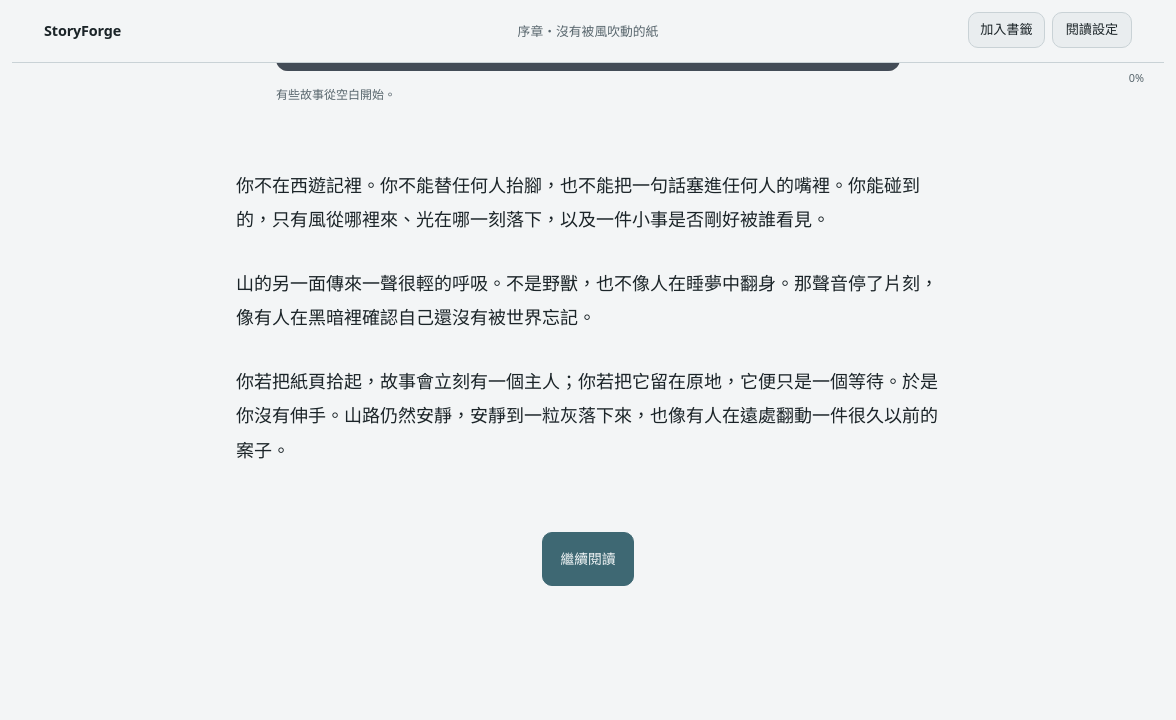
Test case: Book reader › commits the light Choice and renders only its consequence
(page scrolled)
Click the button "繼續閱讀". click: (588, 559)
box: [542,532,634,586]
(page scrolled)
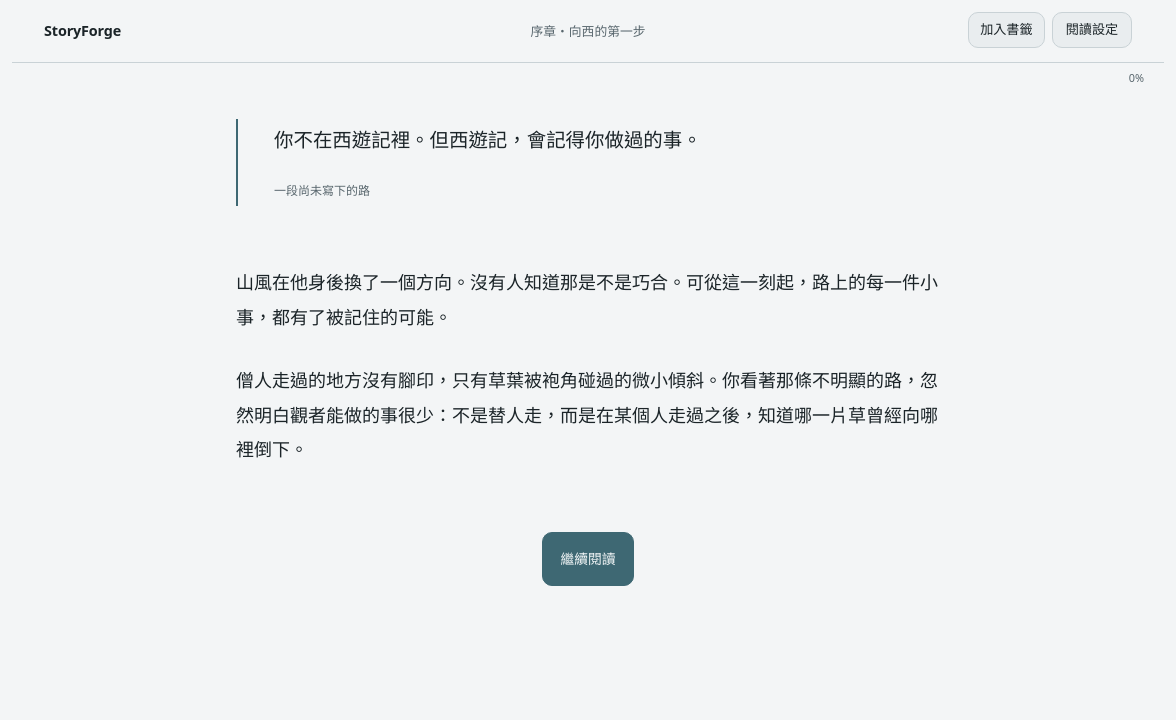
Click the button "繼續閱讀". click: (588, 559)
box: [542,532,634,586]
(page scrolled)
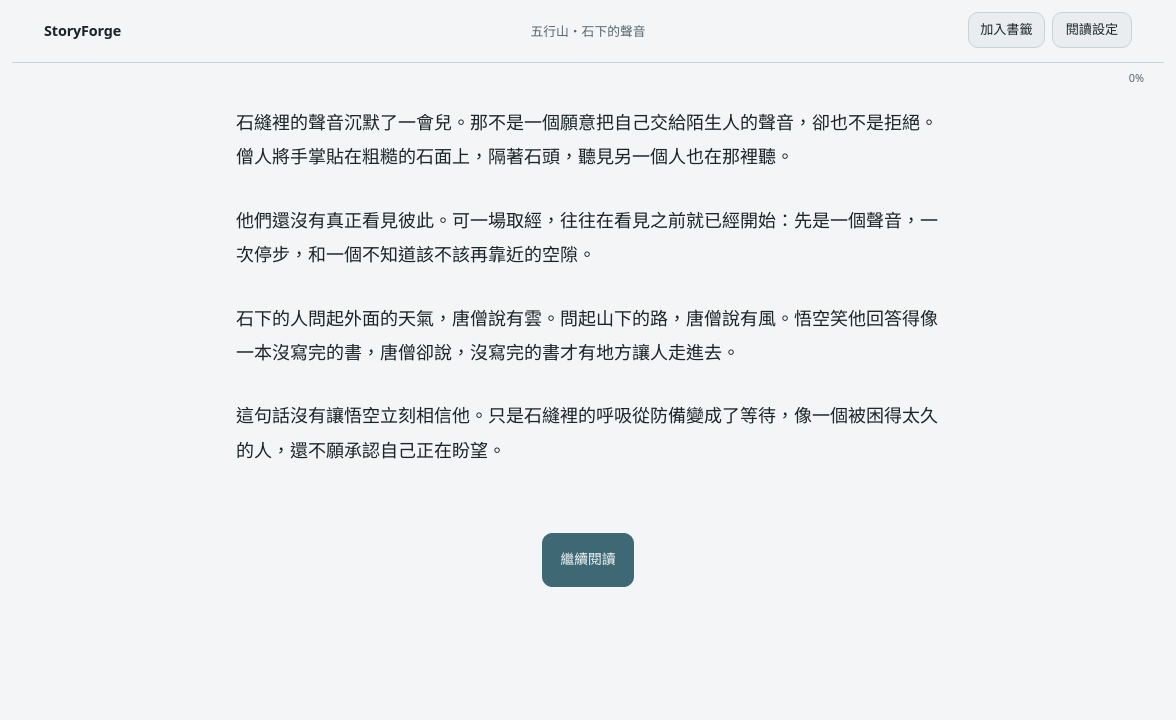
Click the button "繼續閱讀". click: (588, 560)
box: [542,533,634,587]
(page scrolled)
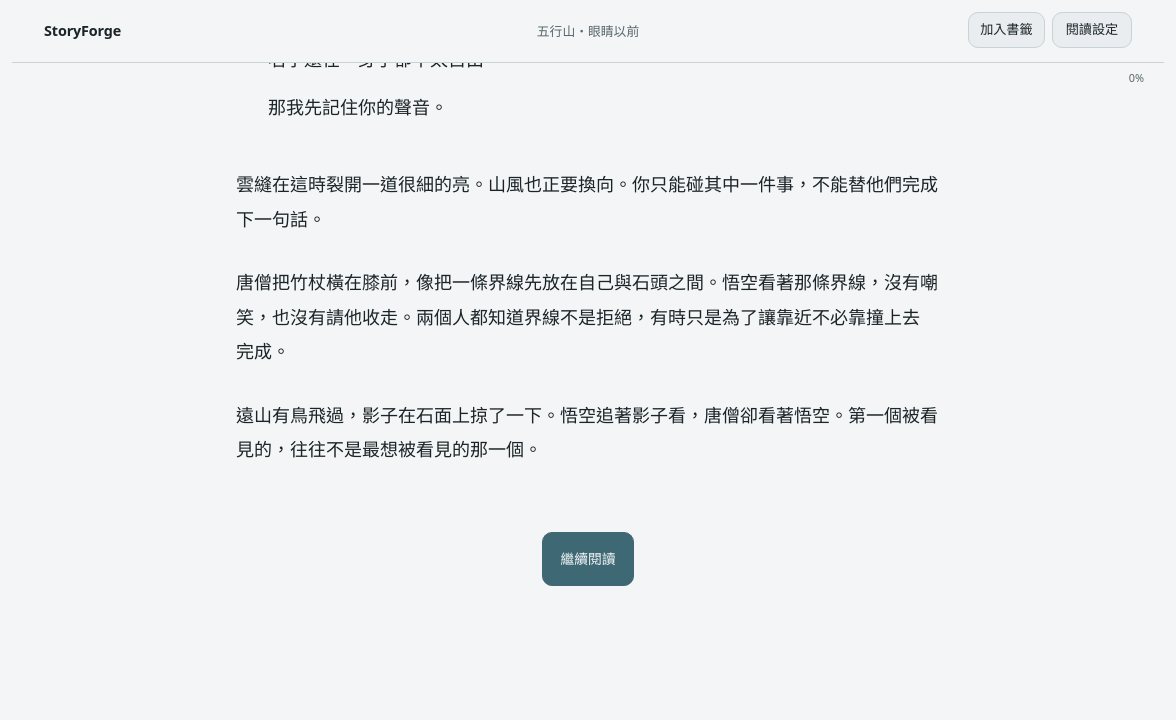
Click the button "繼續閱讀". click: (588, 559)
box: [542,532,634,586]
(page scrolled)
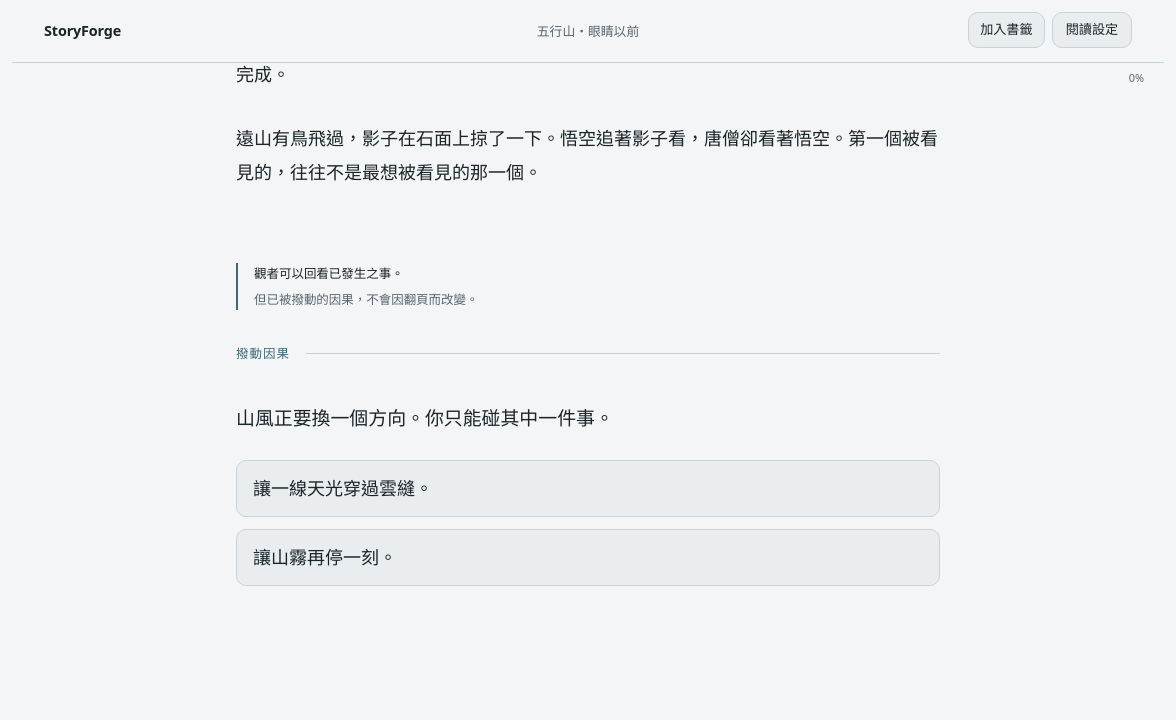
Click the button "讓一線天光穿過雲縫。". click: (343, 488)
box: [236,460,940,517]
(page scrolled)
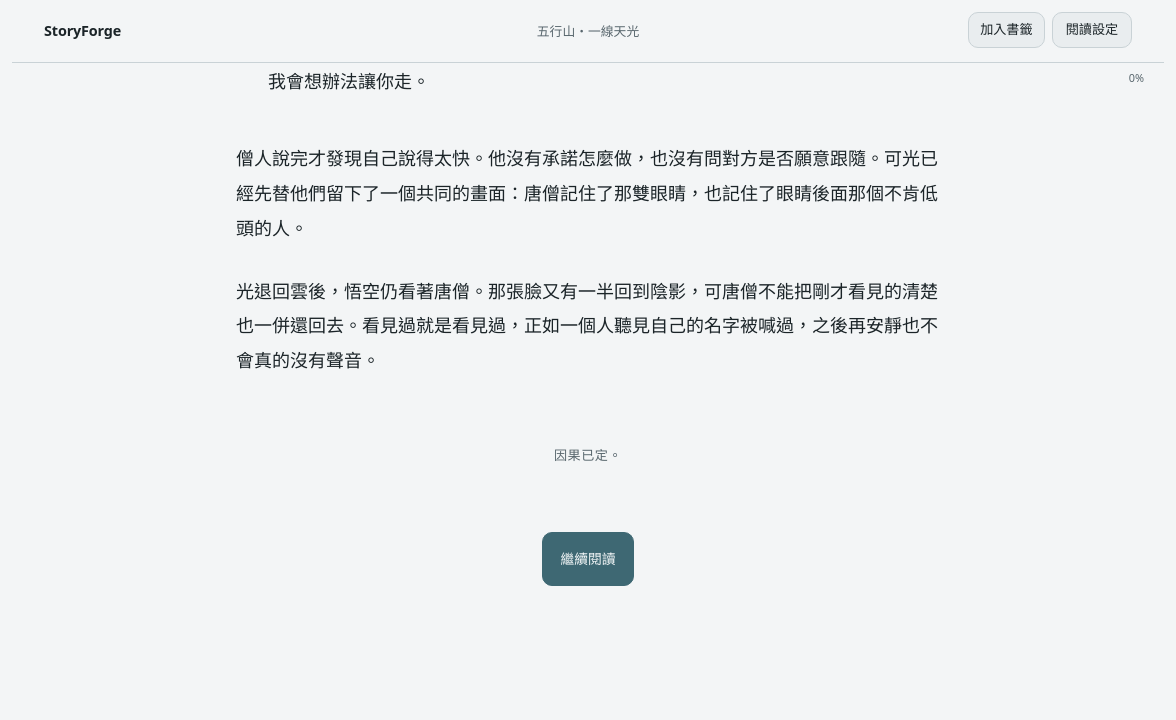
Check: the text "因果已定。" is shown, box [554,446,622,464]
Check: the button "讓一線天光穿過雲縫。" is gone
Check: the button "讓山霧再停一刻。" is gone
